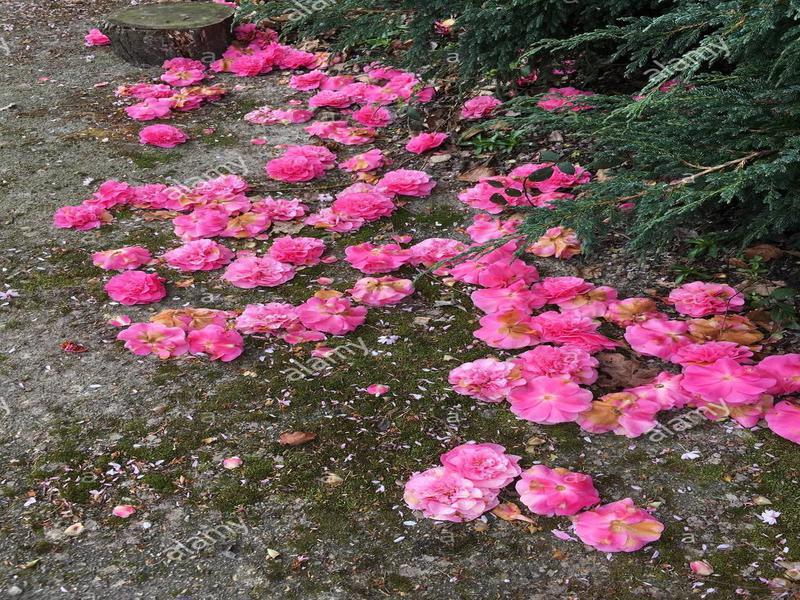flowers: (50, 23, 800, 556)
